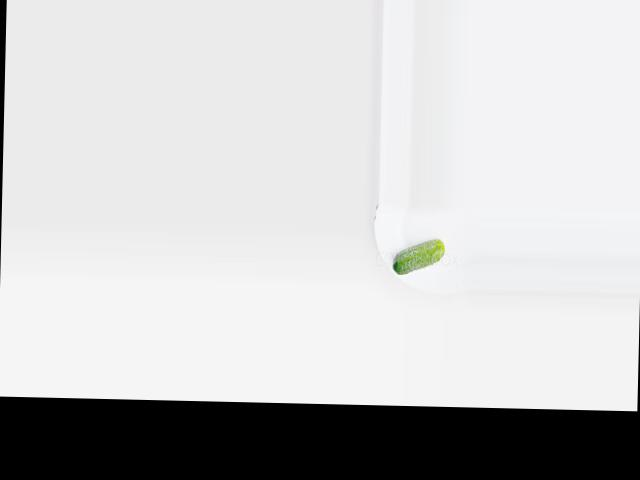cucumber: (393, 237, 445, 275)
